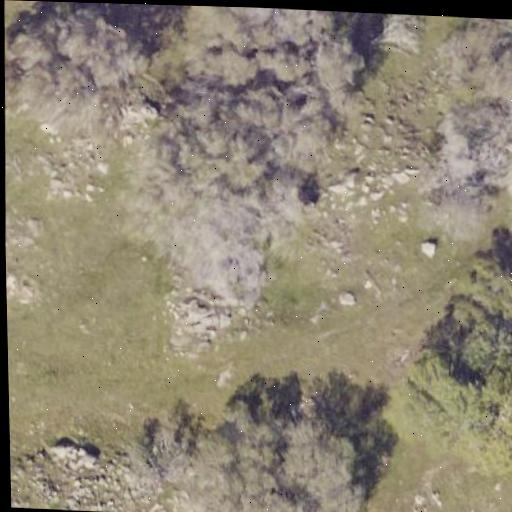tree-top: (124, 77, 337, 287), (405, 217, 512, 469), (129, 407, 377, 512), (14, 0, 159, 149), (191, 6, 350, 102), (417, 110, 512, 194), (434, 16, 512, 99)
